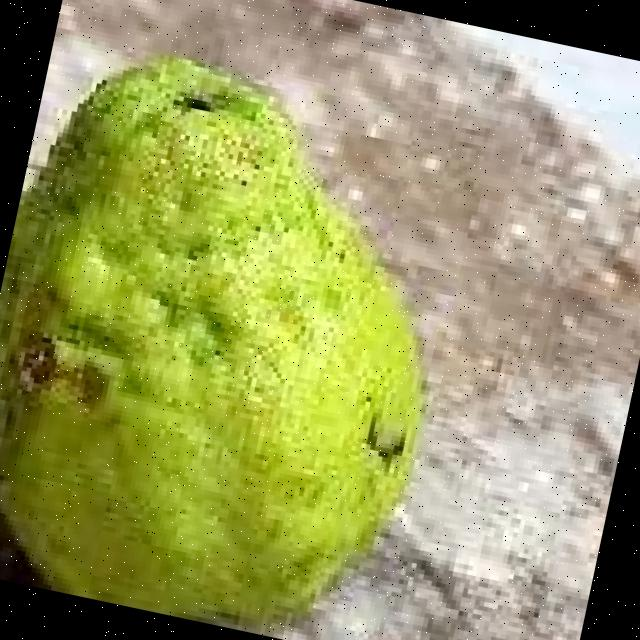Good_Guava 5-7 days: (0, 56, 421, 619)
